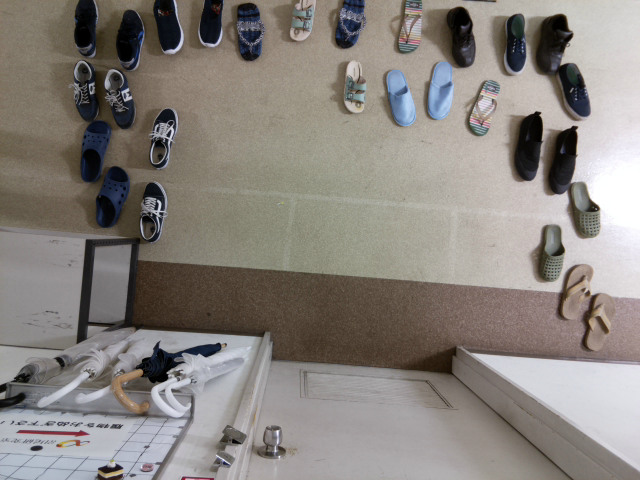Copy of Copy of Copy of Copy of Copy of Copy of Copy of Copy of Copy of Copy of: (114, 8, 145, 70), (153, 1, 184, 55), (74, 1, 98, 58), (197, 1, 223, 46)
Copy of Copy of Copy of Copy of Copy of Copy of Copy of Copy of Copy of shoes: (73, 60, 100, 122)
Copy of Copy of Copy of Copy of Copy of Copy of Copy of Copy of shoes: (104, 68, 135, 131)
Copy of Copy of Copy of Copy of Copy of Copy of Copy of shoes: (138, 180, 168, 242)
Copy of Copy of Copy of Copy of Copy of Copy of sandal: (236, 2, 264, 61)
Copy of Copy of Copy of Copy of Copy of Copy of shoes: (148, 107, 179, 169)
Copy of Copy of Copy of Copy of Copy of sandal: (289, 1, 315, 42)
Copy of Copy of Copy of Copy of Copy of shoes: (447, 6, 476, 67)
Copy of Copy of Copy of Copy of Copy of slipper: (79, 120, 110, 182)
Copy of Copy of Copy of Copy of sandal: (335, 1, 366, 48)
Copy of Copy of Copy of Copy of shoes: (503, 12, 526, 76)
Copy of Copy of Copy of Copy of slipper: (94, 164, 131, 227)
Copy of Copy of Copy of sandal: (397, 1, 422, 52)
Copy of Copy of Copy of shoes: (536, 12, 574, 74)
Copy of Copy of Copy of slipper: (385, 68, 417, 127)
Copy of Copy of sandal: (342, 60, 366, 113)
Copy of Copy of shoes: (557, 61, 591, 120)
Copy of Copy of slipper: (425, 60, 453, 120)
Copy of sandal: (583, 292, 615, 351), (468, 79, 499, 135)
Copy of shoes: (514, 110, 543, 182)
Copy of slipper: (571, 181, 601, 238)
sandal: (558, 263, 593, 319)
shoes: (548, 126, 577, 195)
slipper: (540, 223, 565, 283)
